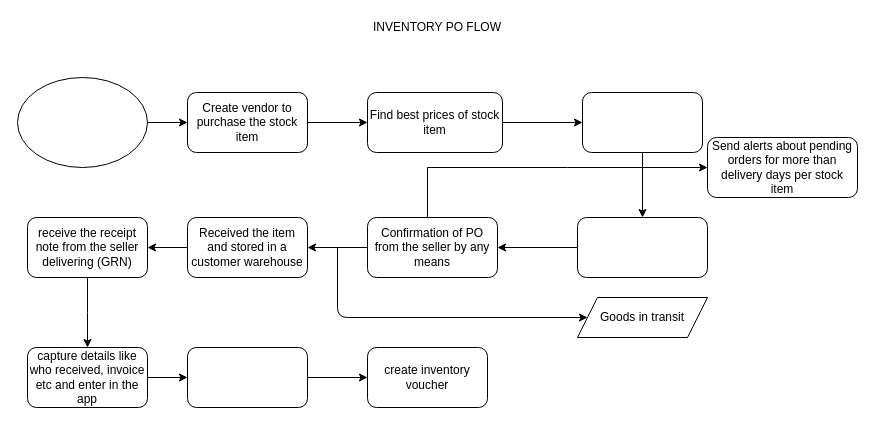
Image size: 875x425. Some labels were removed from this diagram. Each missing label, with the centre of its shape:
add invoice details and map to the stock item. And order is closed.: [247,377]
Create location, stock group, UOM, Stock Item like Washing m/c: [82,122]
place PO through email/phone/sms: [642,247]
select lowest seller to purchase from: [642,122]
